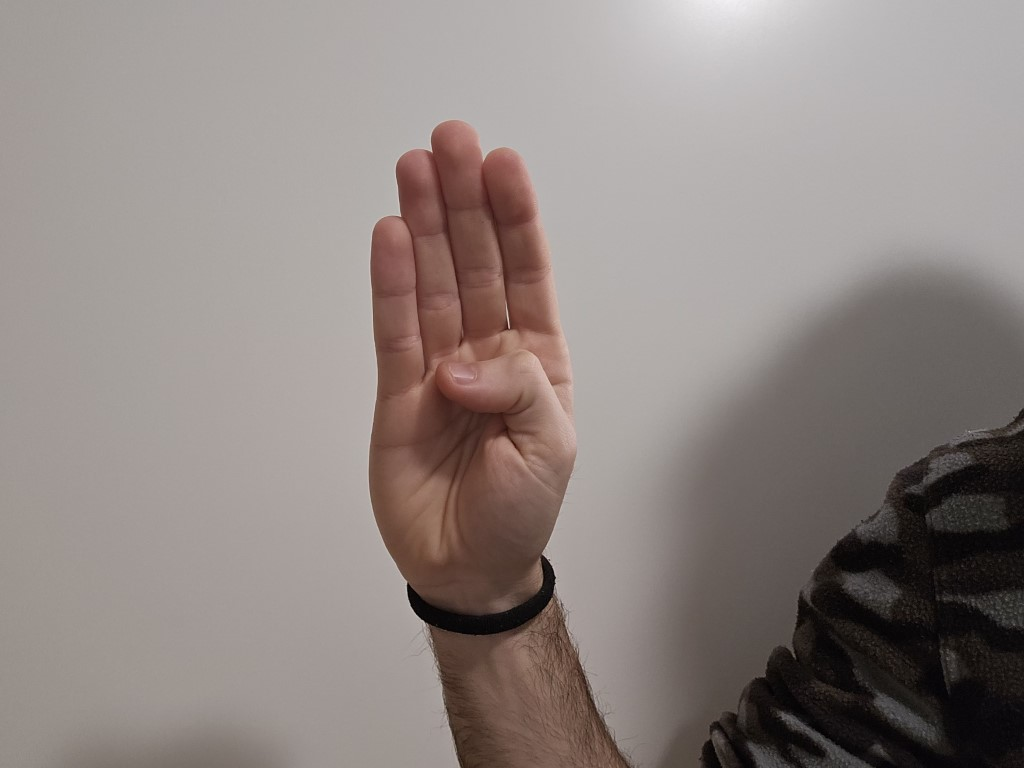b: (337, 113, 594, 595)
